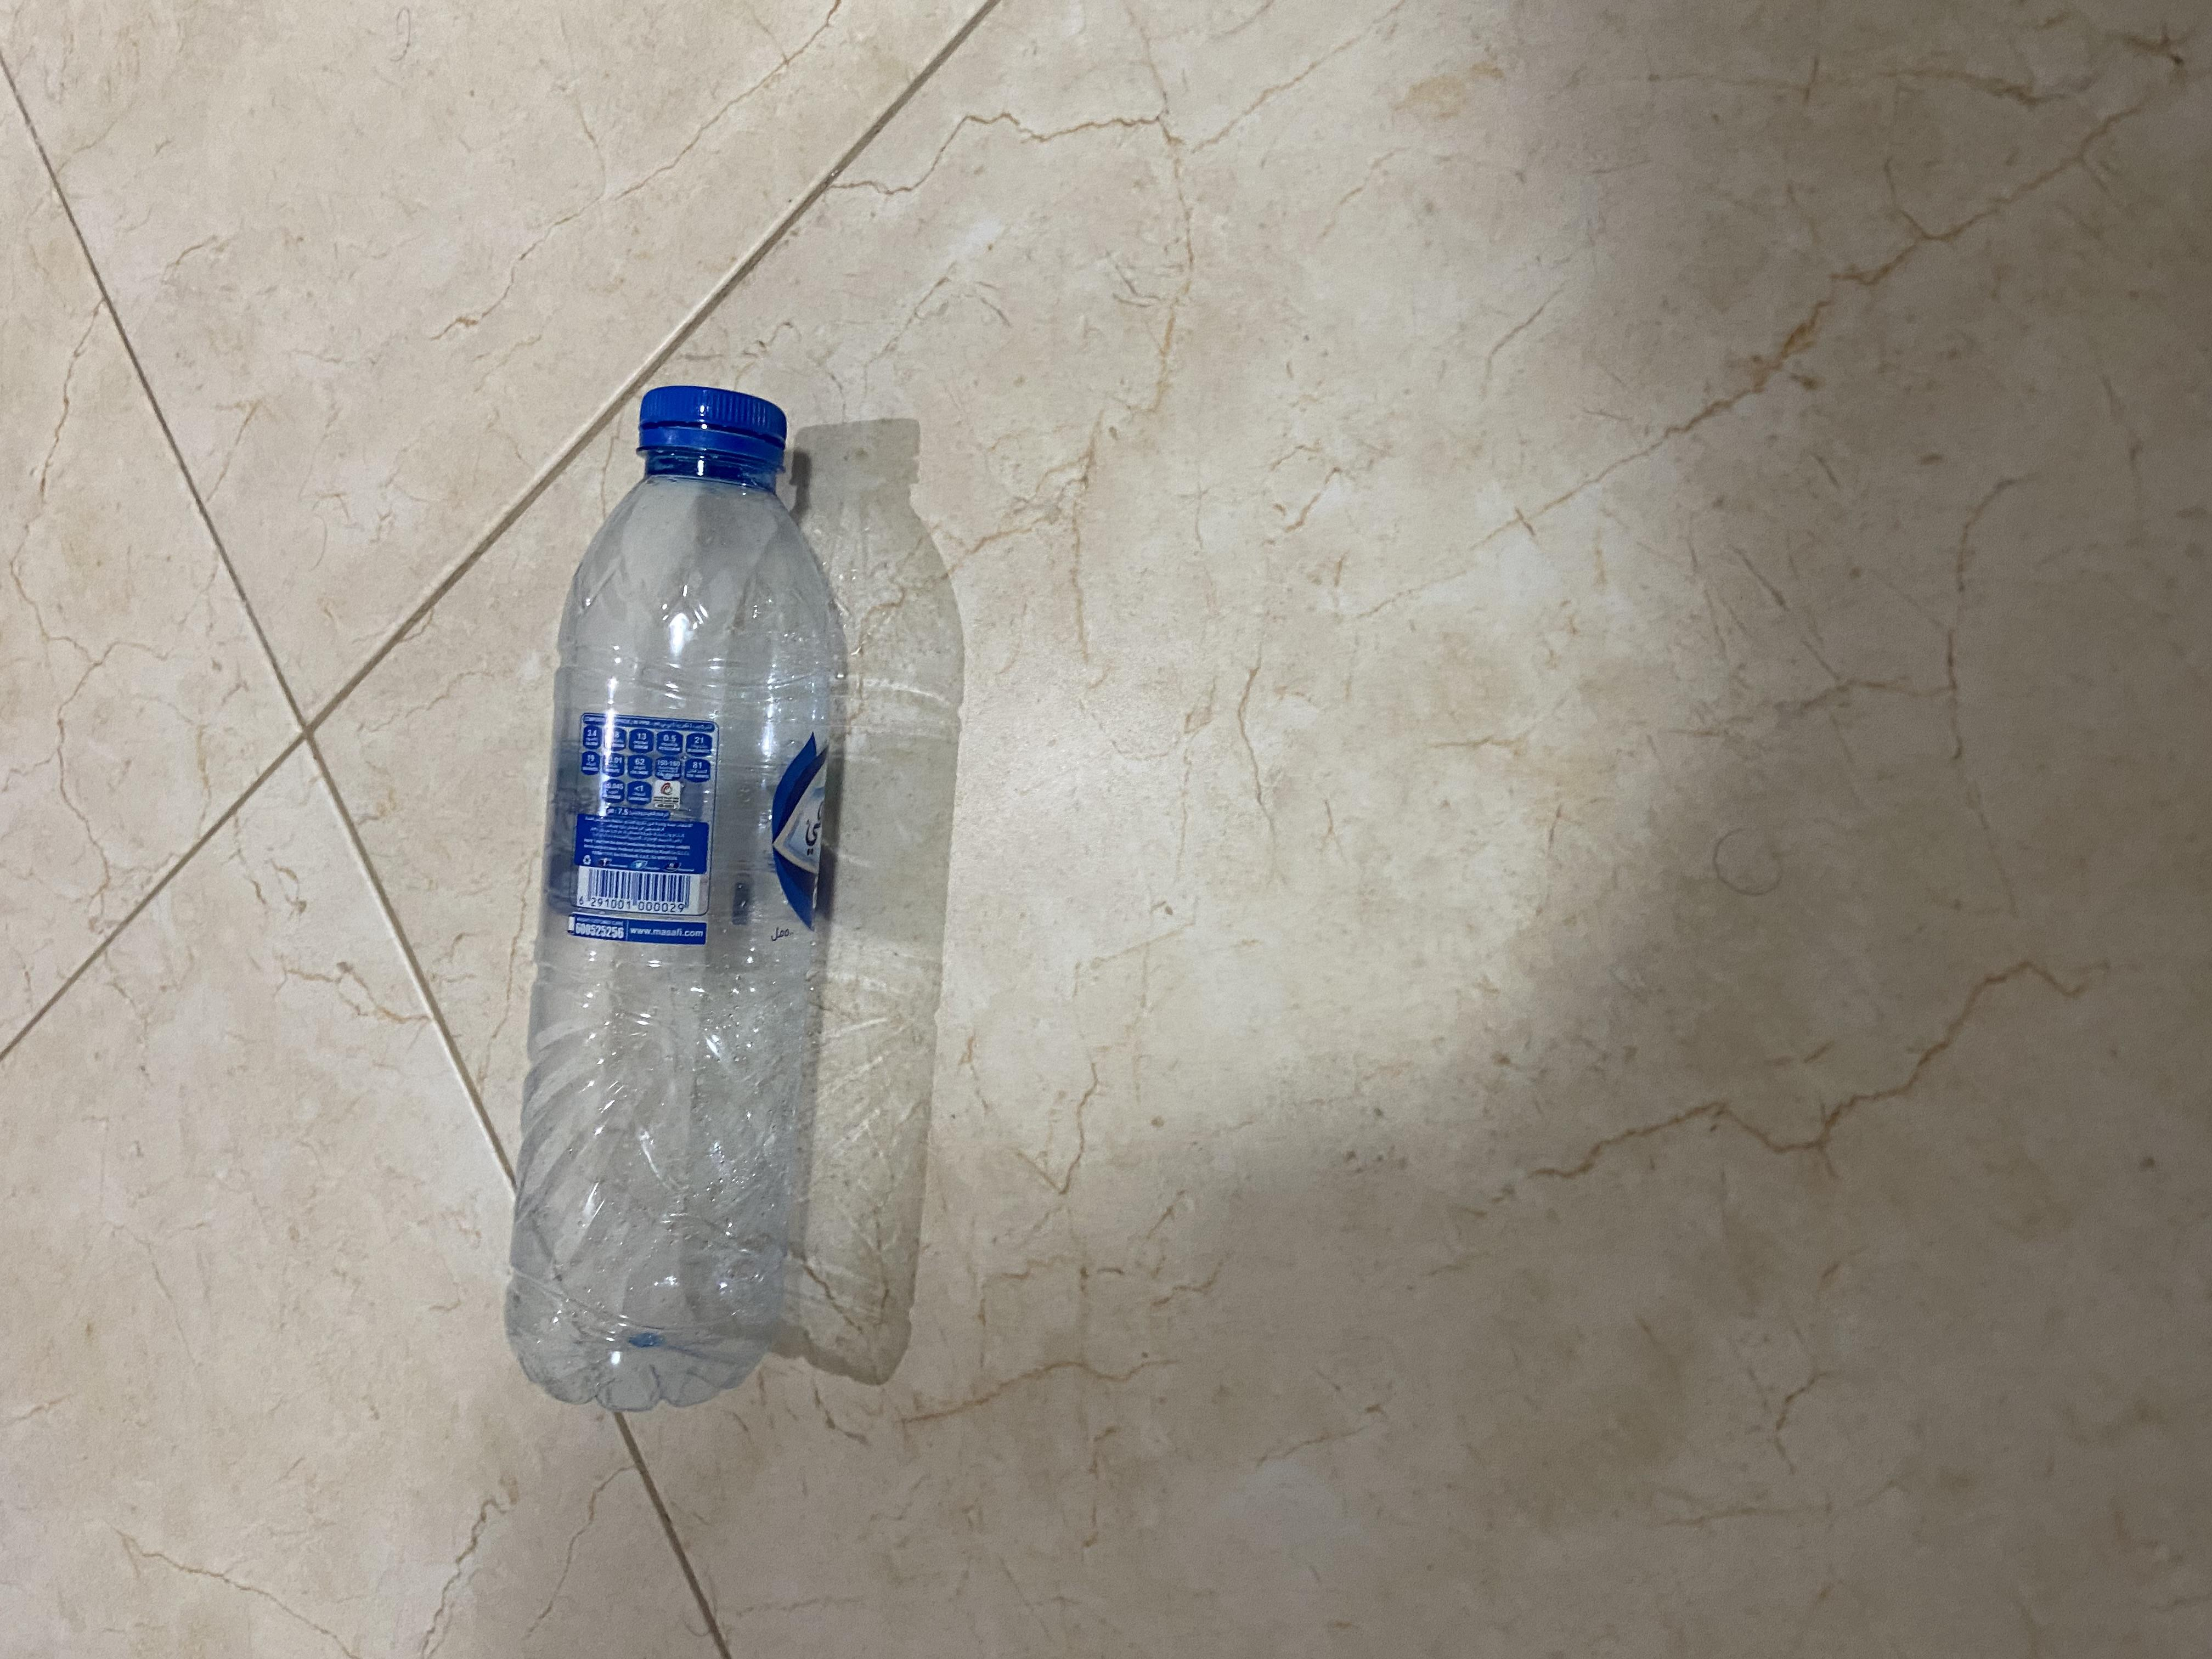bottle: (280, 368, 1782, 664)
